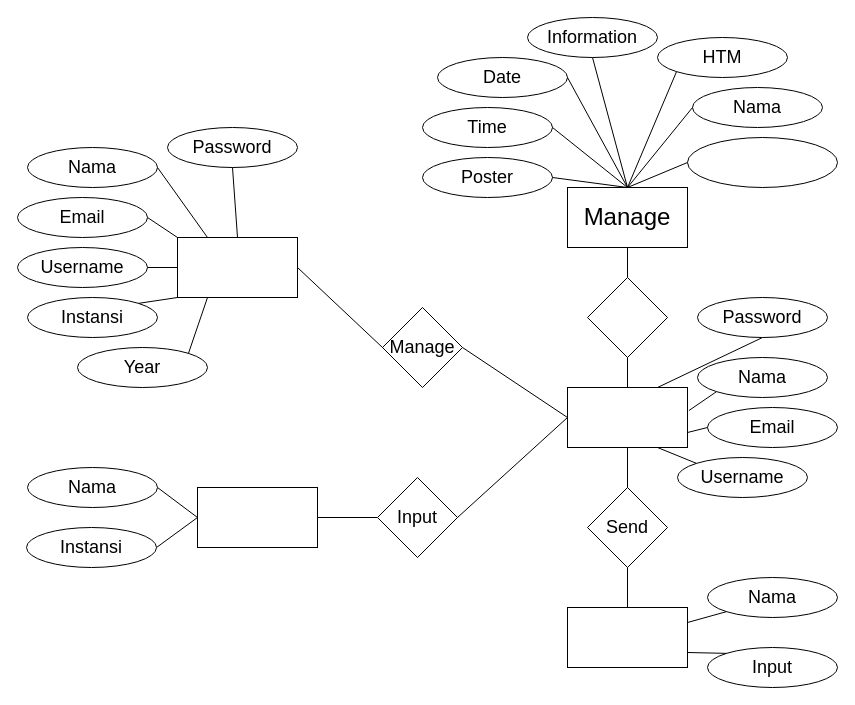
Some shapes in this 855 by 705 pixel diagram are drawn without their labels. The shapes that lost their labels are listed below. From the top down, each one's centre as x and y in pixels, then its label:
At point 762,162: "Max_pastisipant".
At point 237,267: "User".
At point 627,317: "Add".
At point 627,417: "Admin".
At point 257,517: "Certificate".
At point 627,637: "Message".
